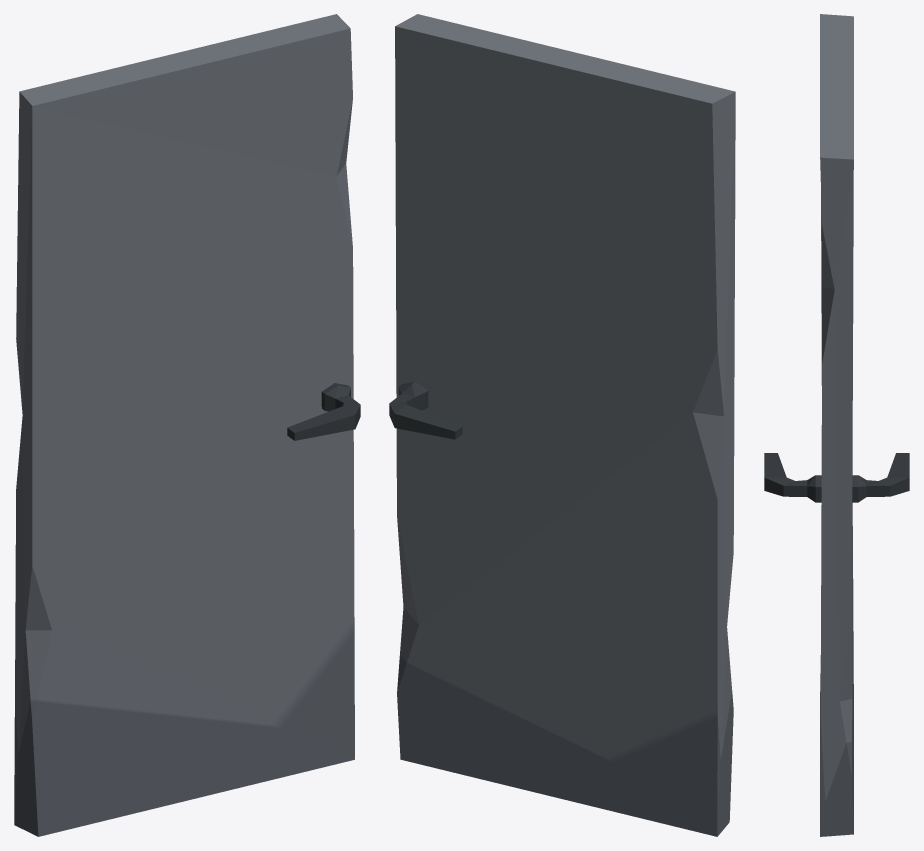
Rendered from SM_Bld_Tent_Entrance_Door_01.glb.
The picture shows the model from 3 angles, left to right: view 1: azimuth 30°, elevation 25°; view 2: azimuth 150°, elevation 25°; view 3: azimuth 270°, elevation 25°; orthographic projection. The views are drawn at different scales.
Visible parts, largest first — view 1: SM_Bld_Tent_Entrance_Door_01; view 2: SM_Bld_Tent_Entrance_Door_01; view 3: SM_Bld_Tent_Entrance_Door_01.
Part boxes in pixels (x1,y1,x2,y2): SM_Bld_Tent_Entrance_Door_01: (14, 14, 360, 836); SM_Bld_Tent_Entrance_Door_01: (389, 14, 735, 836); SM_Bld_Tent_Entrance_Door_01: (764, 14, 909, 836).
Size of the model in its own units: 1.03 by 2.22 by 0.4324.
1 material, 1 textured.
